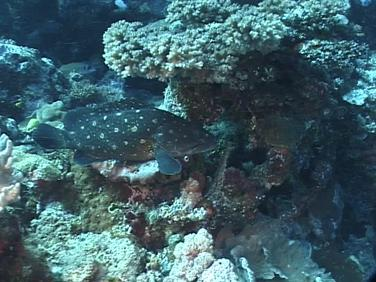Serranidae -Groupers-: (30, 96, 221, 179)
